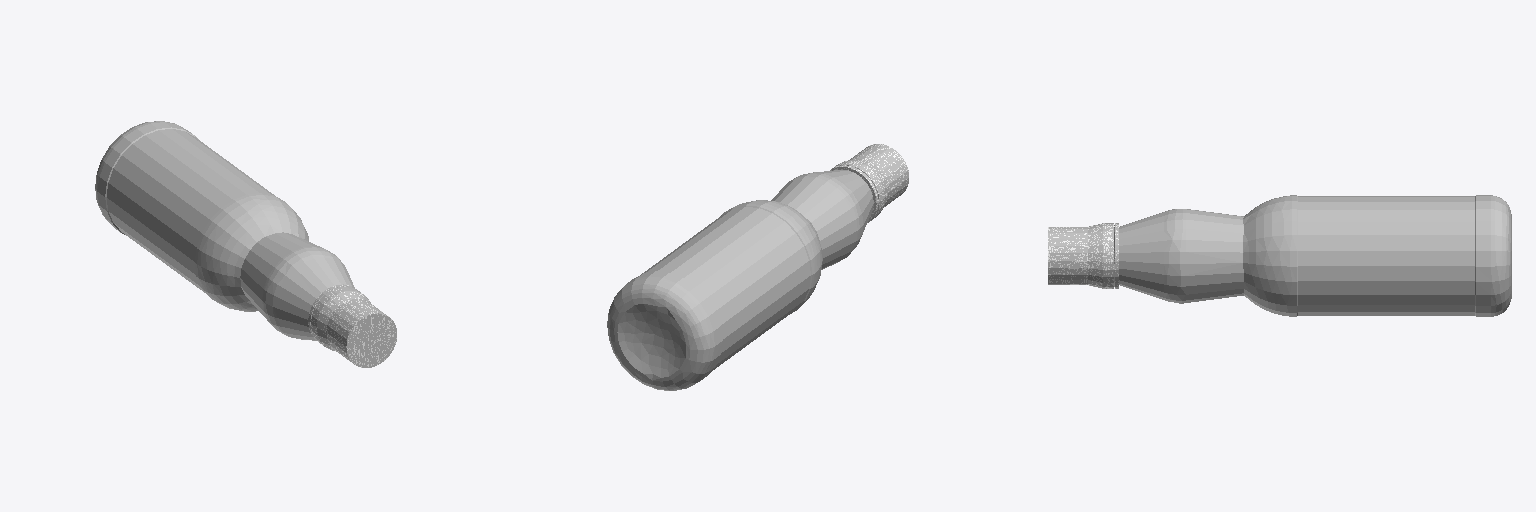
File: model_align.obj
3 renders of one model, left to right at view 1: azimuth 30°, elevation 25°; view 2: azimuth 150°, elevation 25°; view 3: azimuth 270°, elevation 25°, orthographic.
Size of the model in its own units: 0.0573 by 0.0573 by 0.2174.